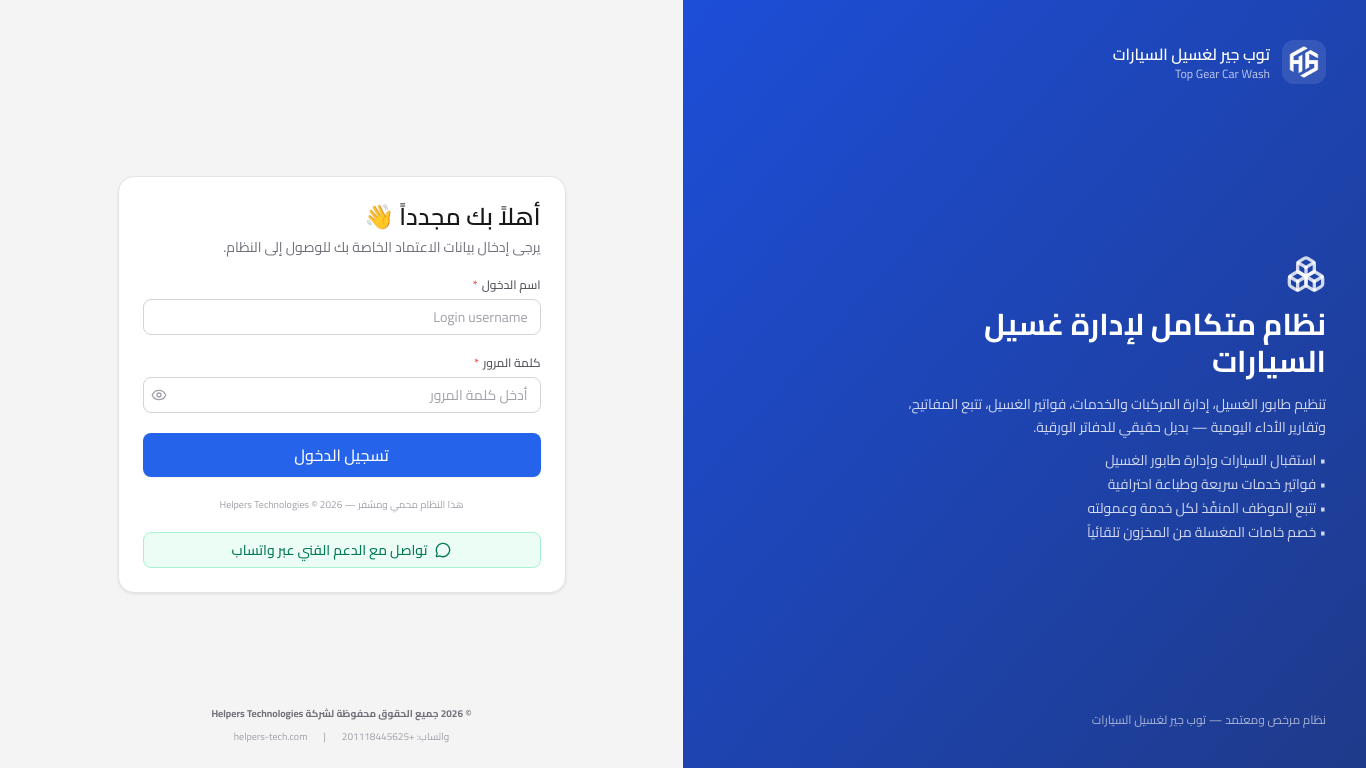
Test: LoginPage — TC-COMP-LOGIN › TC-COMP-LOGIN-004 — rate_limited response disables the submit button
The image size is (1366, 768).
Type "owner" into the field with placeholder "Login username" at (342, 316), box x1=142 y1=298 x2=540 y2=334
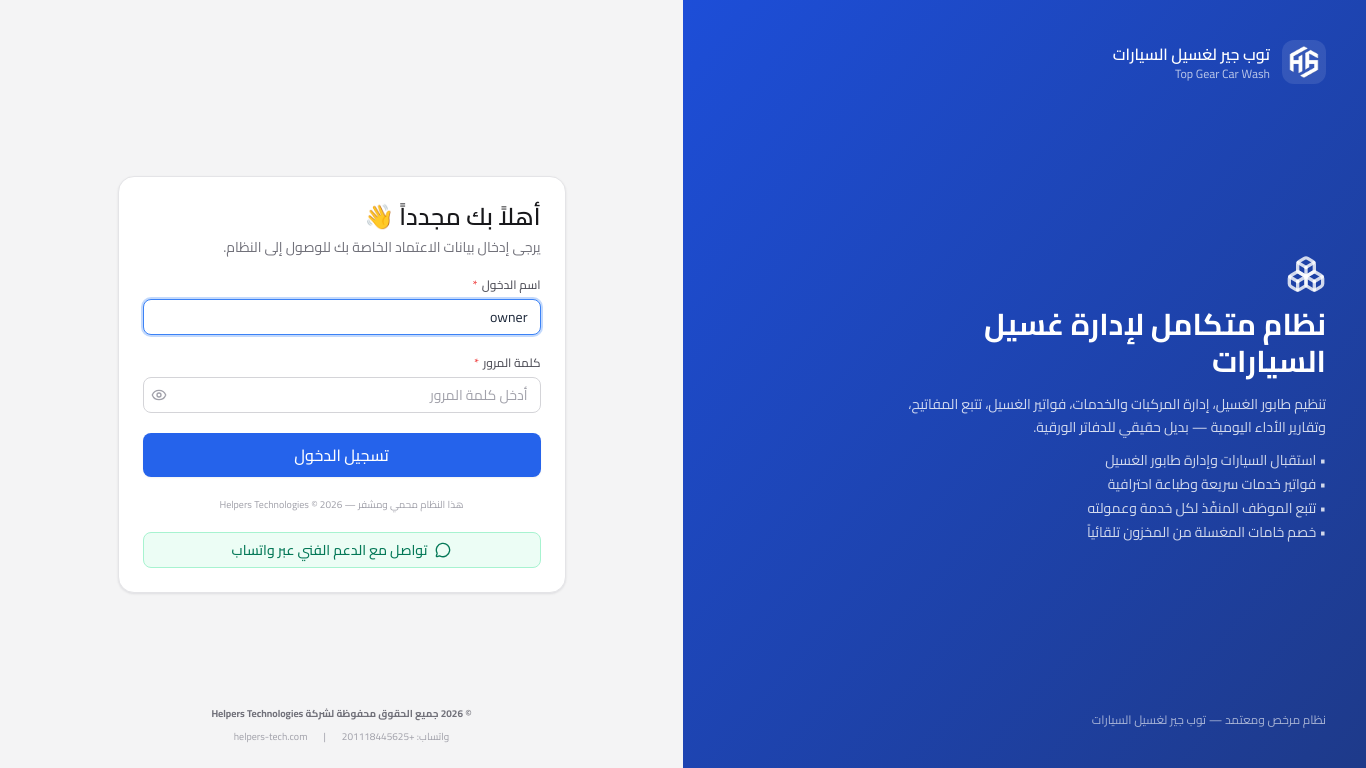
Type "WrongPass" into the password field with placeholder "أدخل كلمة المرور" at (342, 394), box x1=142 y1=376 x2=540 y2=412
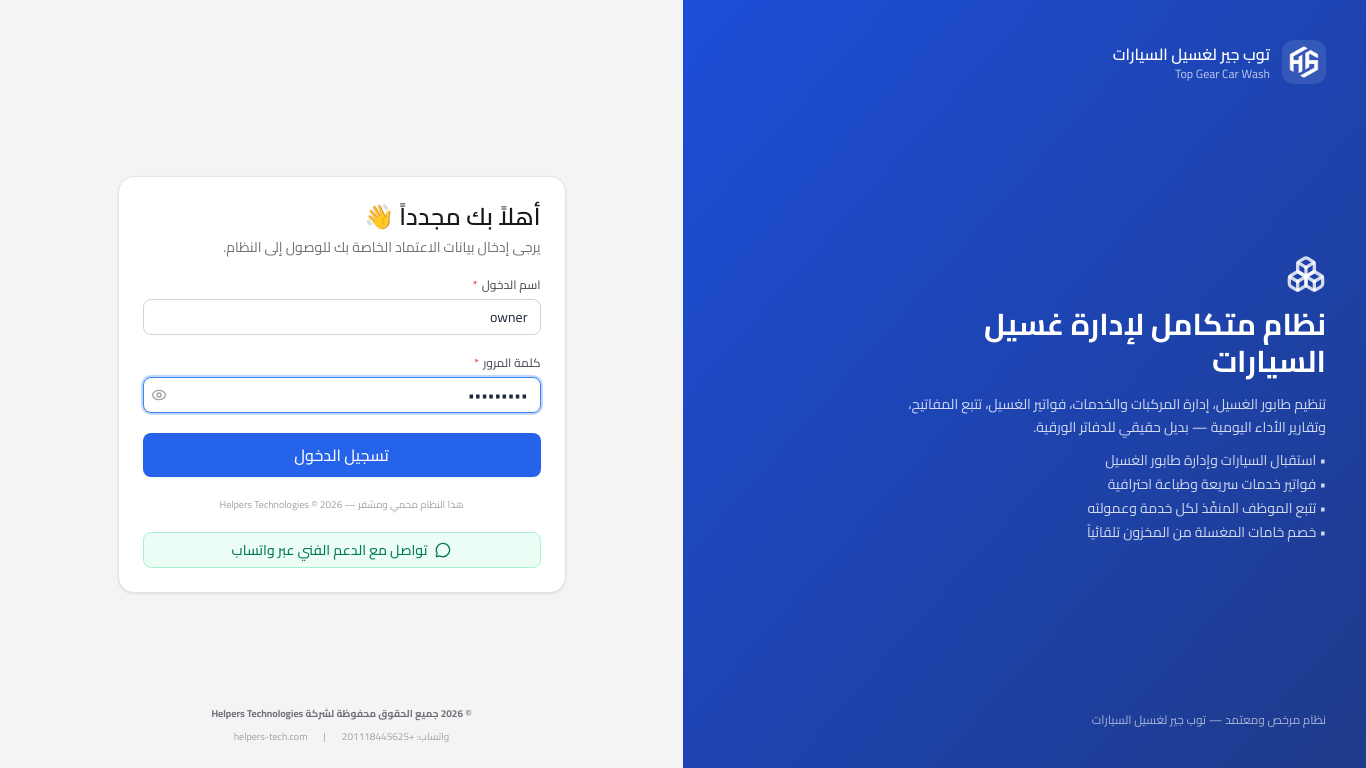
// Click using the real element since the button text will change after submit.
Click the button "تسجيل الدخول" at (342, 454), box x1=142 y1=432 x2=540 y2=476
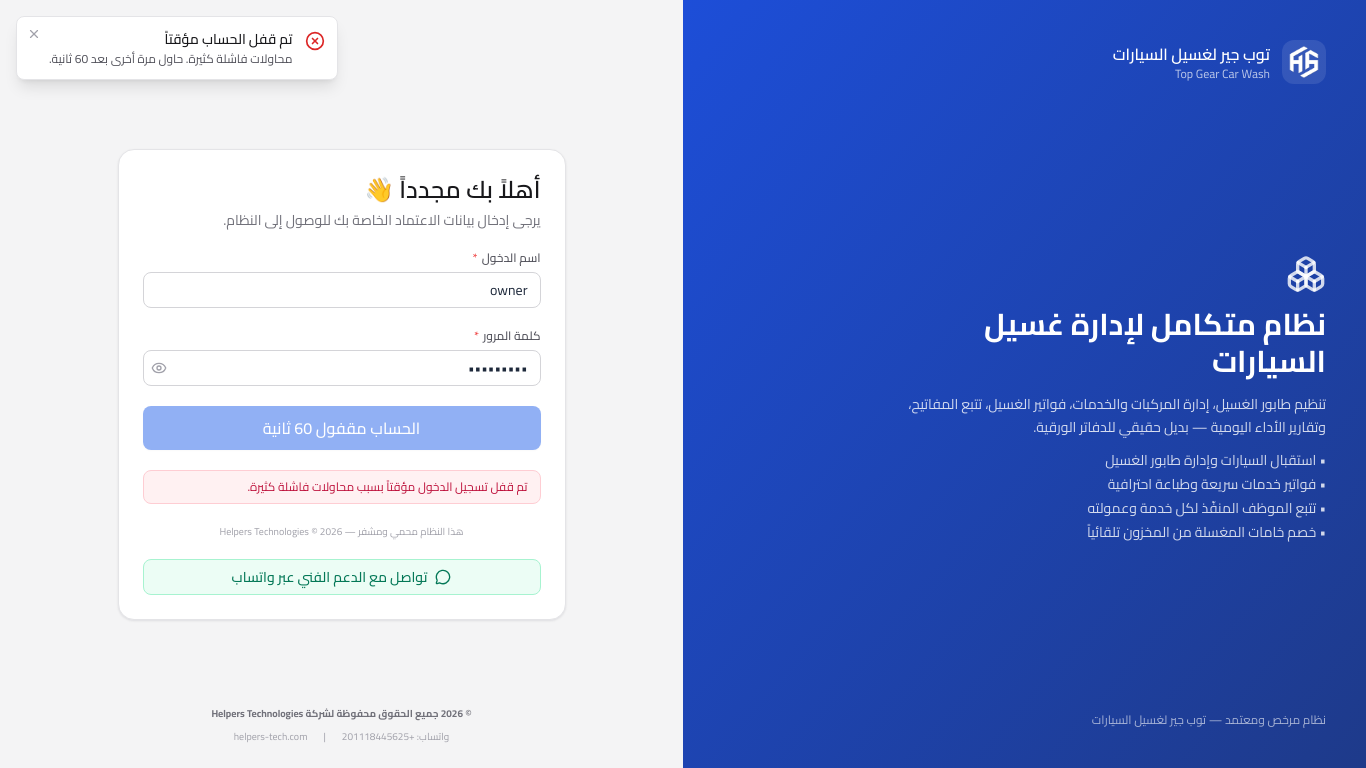
Now the button "الحساب مقفول 60 ثانية" is disabled, box x1=142 y1=406 x2=540 y2=450
